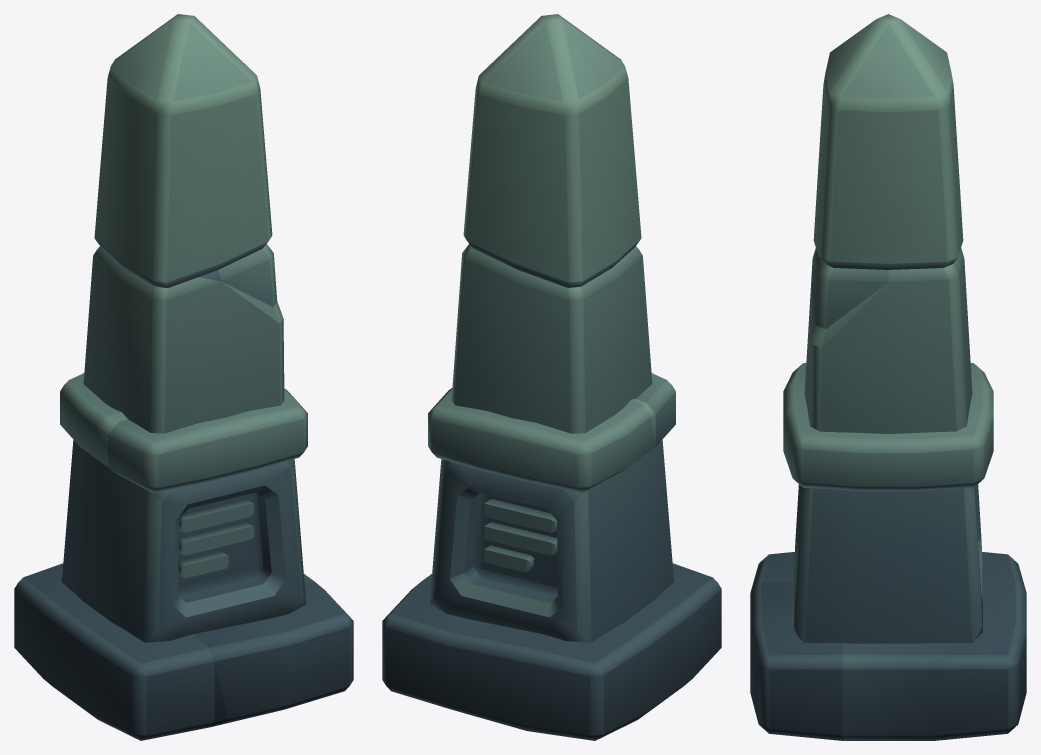
Rendered from obelisk_LOD_setup.fbx.
The picture shows the model from 3 angles, left to right: view 1: azimuth 30°, elevation 25°; view 2: azimuth 150°, elevation 25°; view 3: azimuth 270°, elevation 25°; orthographic projection.
Parts seen in each view (by area): view 1: obelisk_LOD0; view 2: obelisk_LOD0; view 3: obelisk_LOD0.
Boxes of the visible parts, x1,y1,x2,y2 form: obelisk_LOD0: (14,14,353,740); obelisk_LOD0: (382,14,721,740); obelisk_LOD0: (750,14,1026,740).
Size of what is drawn, in the model's own units: 160 by 428 by 160.
